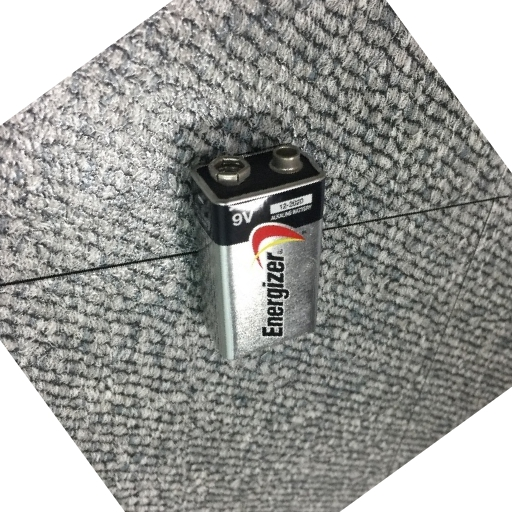Battery_3: (182, 132, 339, 366)
